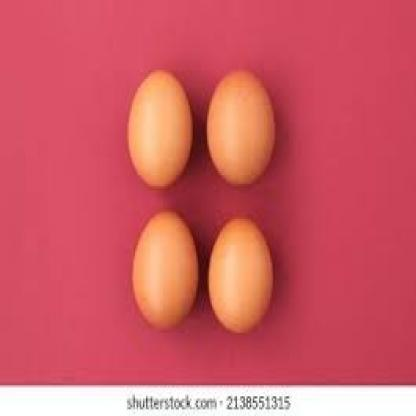egg: (132, 209, 199, 334), (206, 70, 276, 186), (209, 212, 273, 336), (127, 72, 194, 190)
